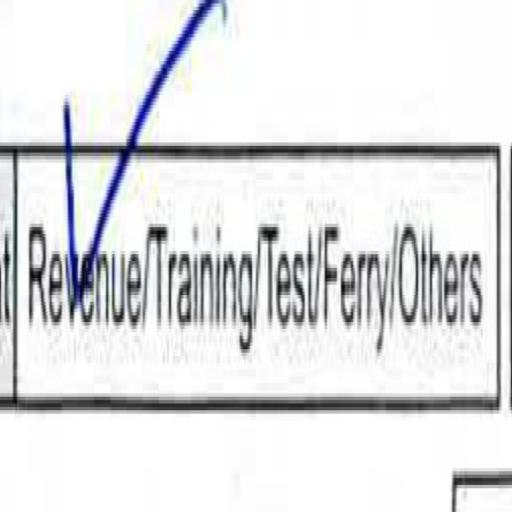check: (23, 62, 147, 443)
